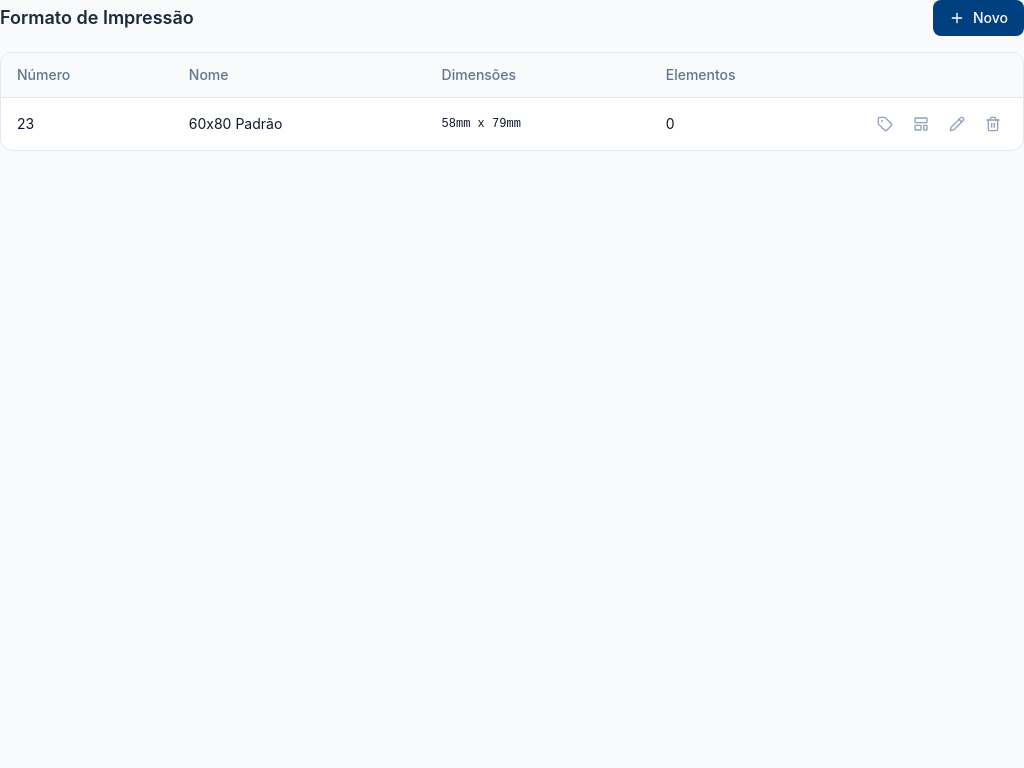
Formato de Impressão — aviso de envio à balança › avisa quando nenhuma balança recebeu, em vez de calar
Click the button titled "editar layout": (921,124) [907, 110, 935, 138]
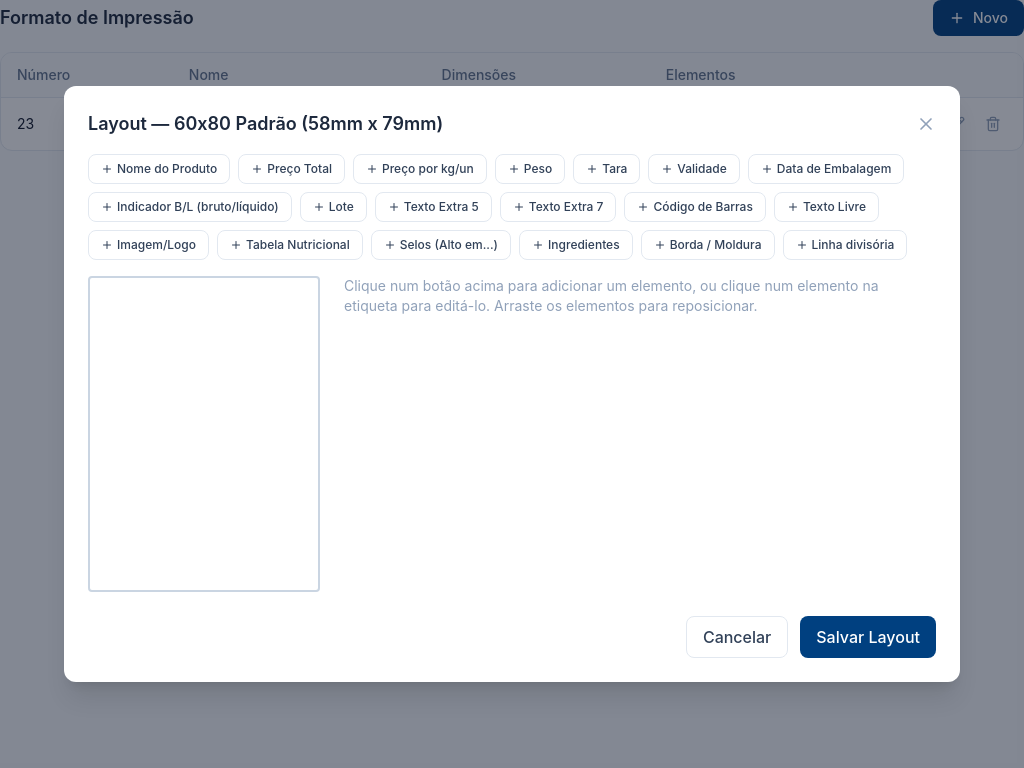
Click the button "Salvar Layout": (868,637) [800, 616, 936, 658]
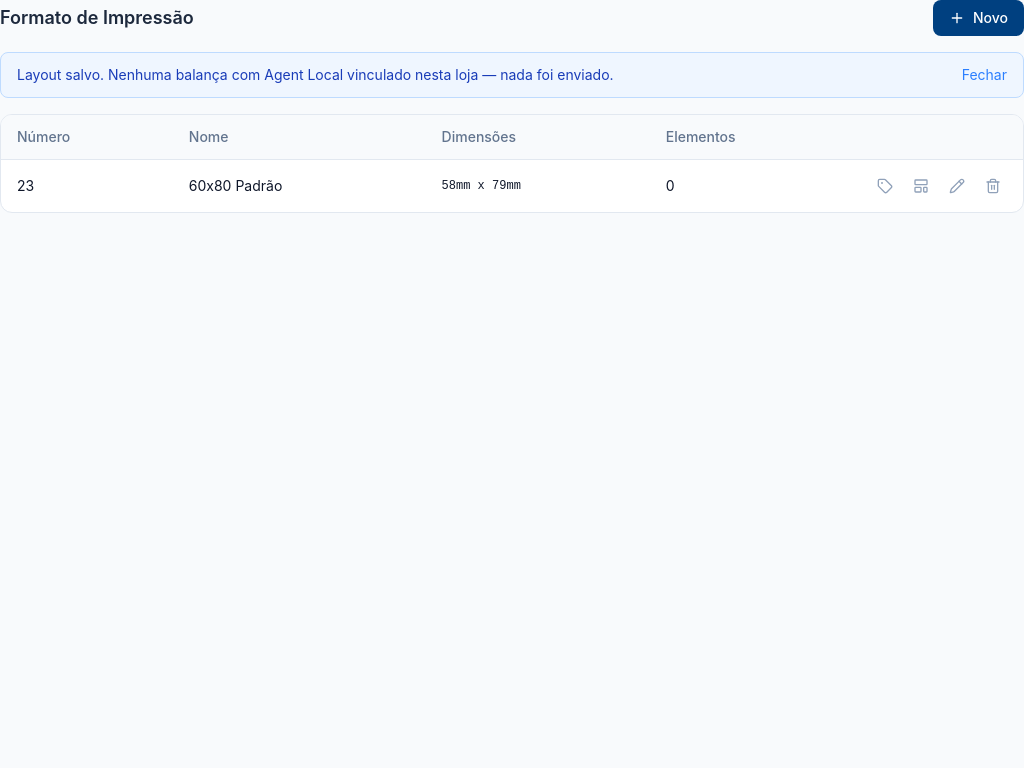
Now the text "Nenhuma balança com Agent Local" is shown, box [17, 66, 614, 83]
